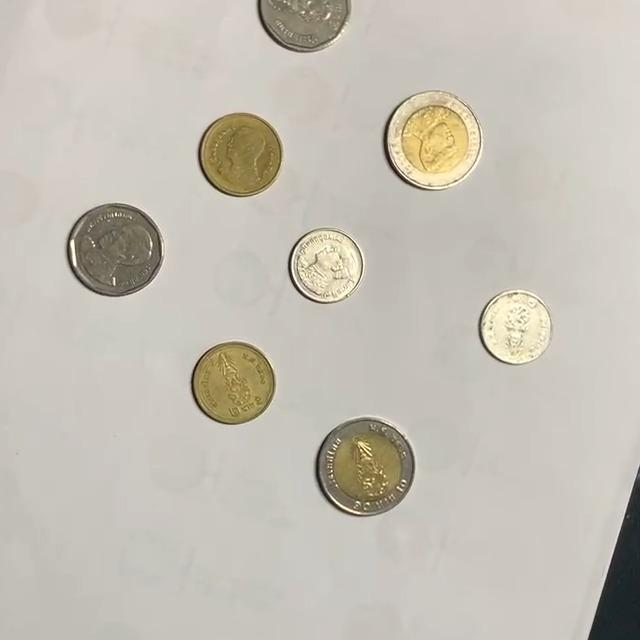1-baht: (479, 289, 555, 366), (289, 228, 366, 304)
10-baht: (385, 90, 485, 190), (316, 418, 415, 517)
2-baht: (199, 112, 284, 197), (191, 341, 277, 425)
5-baht: (66, 202, 166, 297), (258, 0, 353, 54)
